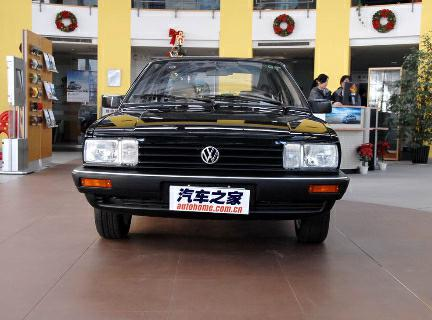大众-桑塔纳经典: (69, 52, 354, 252)
